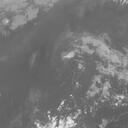cyclone: (62, 36, 109, 89)
